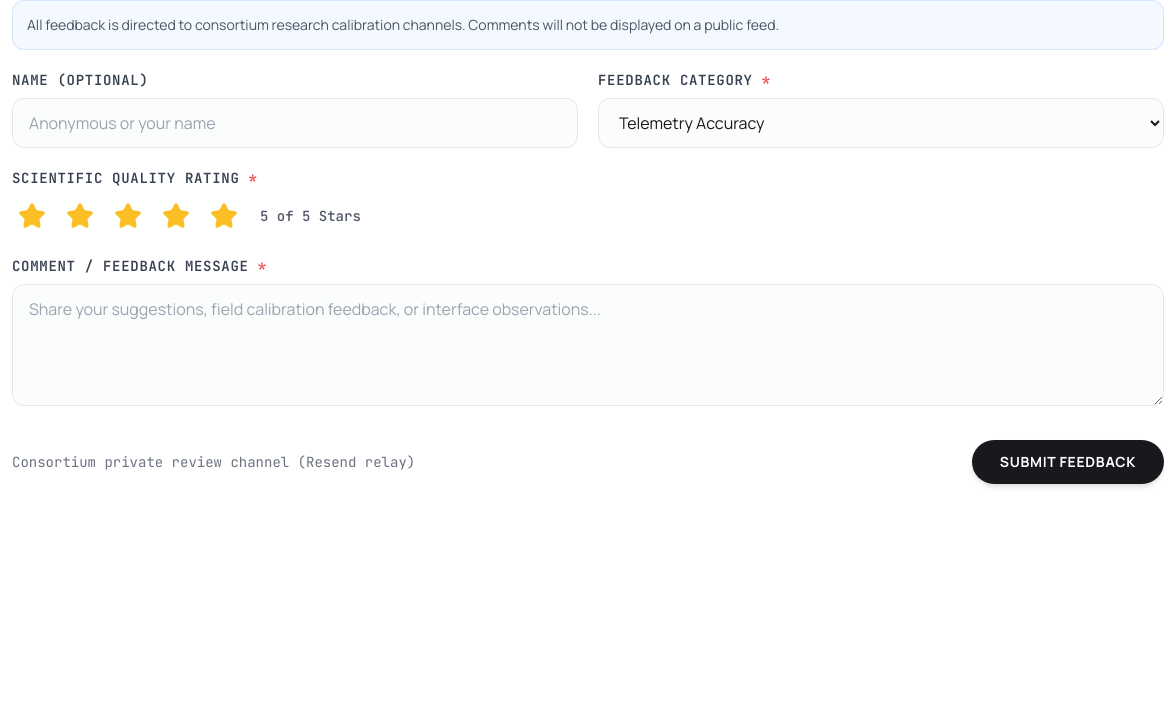
Test: AFTER THE FIRE — Public & Research Dashboard Pages › Contact & Feedback Forms Validation › validates feedback form and shows feedback submission notice honestly
The image size is (1176, 720).
Replace the text in the text box with placeholder "Share your suggestions" with "Excellent spatial radiometry calibration across Big Sur.": (588, 345) [12, 284, 1164, 406]
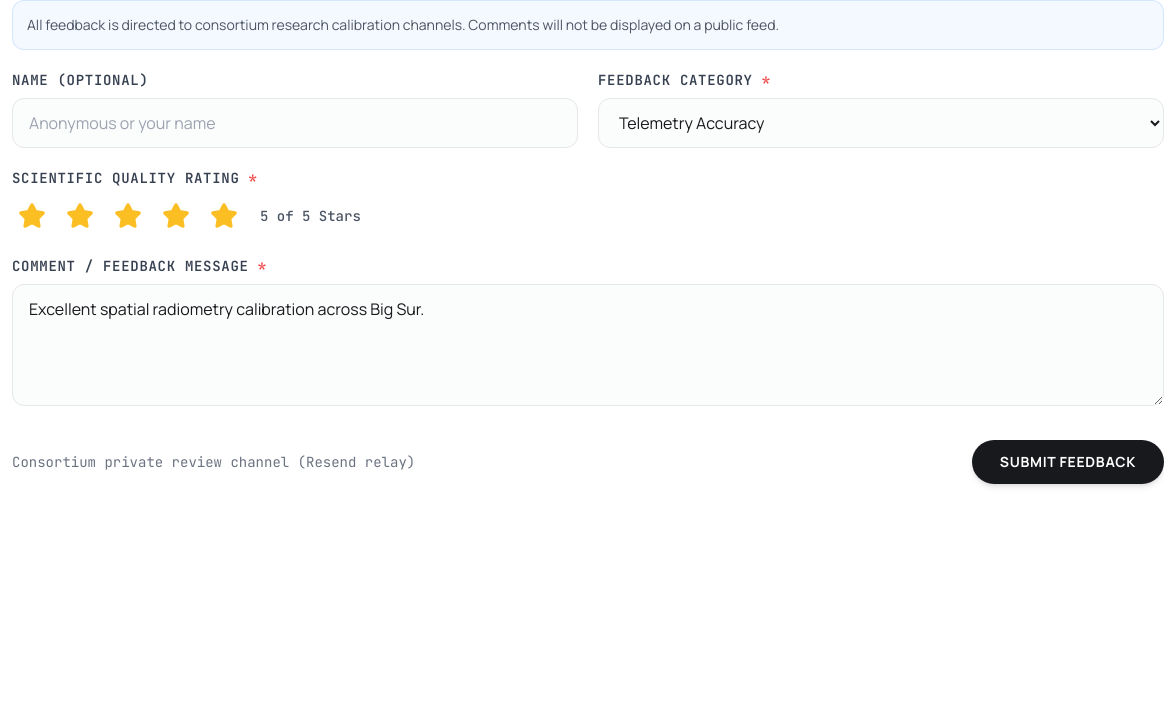
Click the button "Submit Feedback": click(1068, 462) [972, 440, 1164, 484]
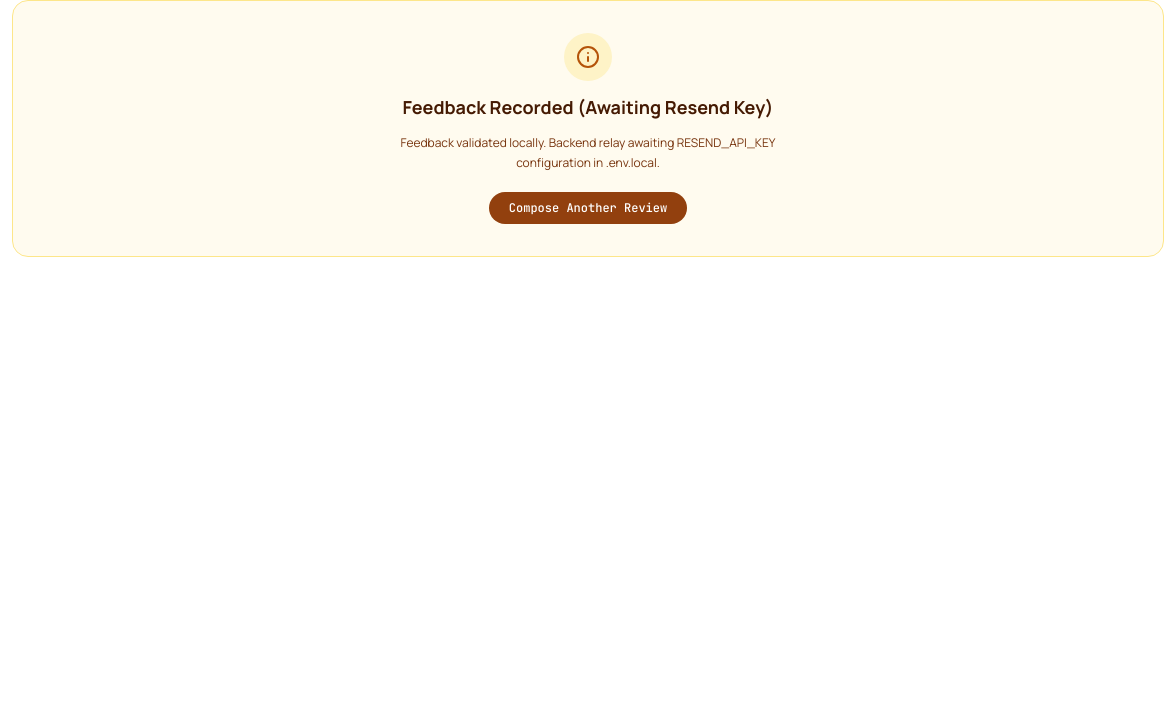
Expected: the heading "Feedback Recorded (Awaiting Resend Key)" is shown, [403, 95, 774, 119]
